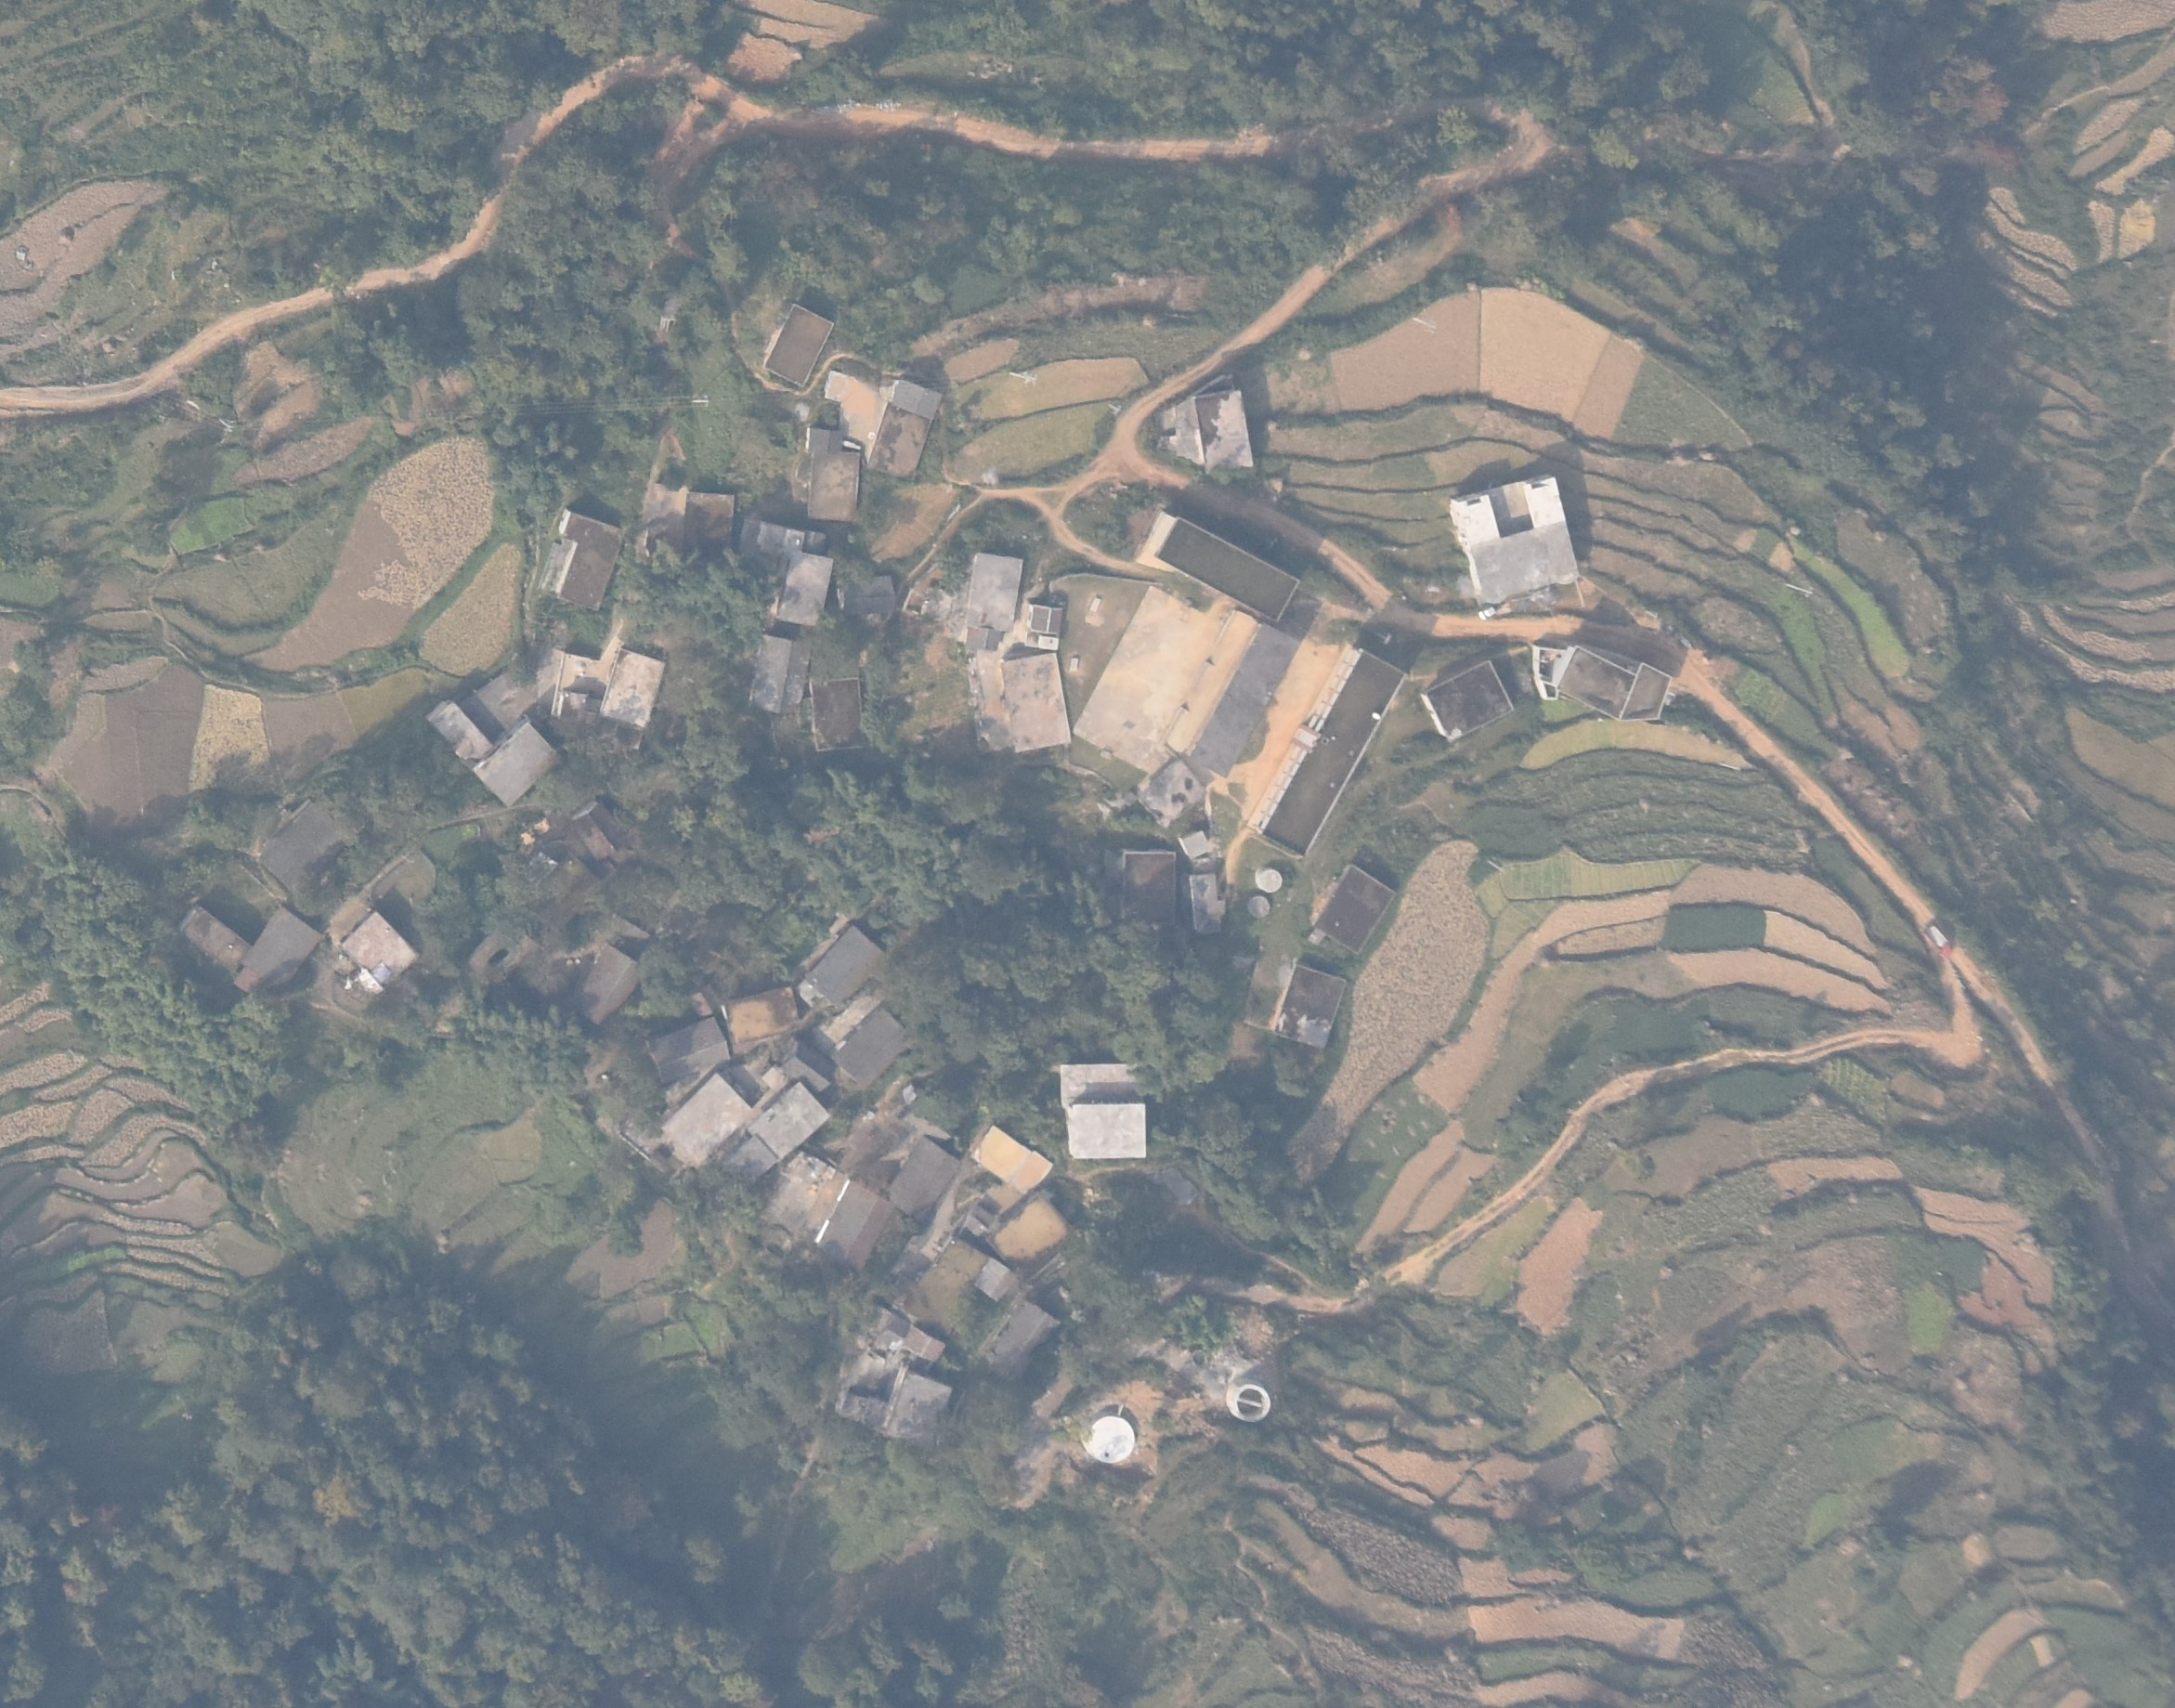building: (1245, 645, 1407, 858), (1165, 609, 1283, 779), (1451, 477, 1580, 606), (1155, 516, 1301, 622), (427, 699, 561, 807), (177, 903, 325, 1000), (1529, 641, 1670, 721), (837, 1365, 952, 1450), (258, 798, 350, 897), (540, 510, 623, 613), (1061, 1065, 1148, 1159), (756, 525, 833, 627), (667, 1074, 749, 1171), (1419, 659, 1509, 742), (867, 382, 941, 480), (814, 1178, 888, 1273), (1313, 865, 1396, 950), (983, 1300, 1063, 1387), (1001, 654, 1072, 749), (1268, 963, 1345, 1049), (646, 487, 736, 556), (341, 911, 417, 993), (763, 302, 833, 389), (807, 924, 879, 1007), (886, 1137, 957, 1222), (644, 1016, 729, 1086), (750, 1083, 828, 1155), (833, 1003, 902, 1085), (989, 1192, 1066, 1263), (971, 1123, 1050, 1190), (1193, 389, 1257, 472), (598, 648, 664, 722), (724, 986, 800, 1049), (533, 858, 595, 936), (966, 553, 1024, 634), (579, 945, 637, 1026), (750, 636, 810, 714), (1135, 758, 1202, 821), (1121, 850, 1176, 927), (809, 676, 865, 751), (807, 454, 860, 523), (574, 798, 627, 862), (782, 1044, 837, 1092), (722, 1139, 777, 1183), (1190, 873, 1227, 936), (840, 579, 899, 616), (978, 1259, 1019, 1300), (904, 1325, 948, 1360), (1026, 604, 1063, 636), (1178, 827, 1208, 857), (805, 429, 844, 452)
cable-tower: (1785, 581, 1815, 599), (1010, 371, 1040, 387), (217, 417, 235, 435), (690, 394, 710, 408), (1109, 403, 1125, 417)
vehicle: (1924, 924, 1954, 959), (1476, 606, 1497, 622)
well: (1082, 1415, 1135, 1464), (1225, 1379, 1271, 1424), (1255, 869, 1282, 892), (1246, 894, 1269, 920)
